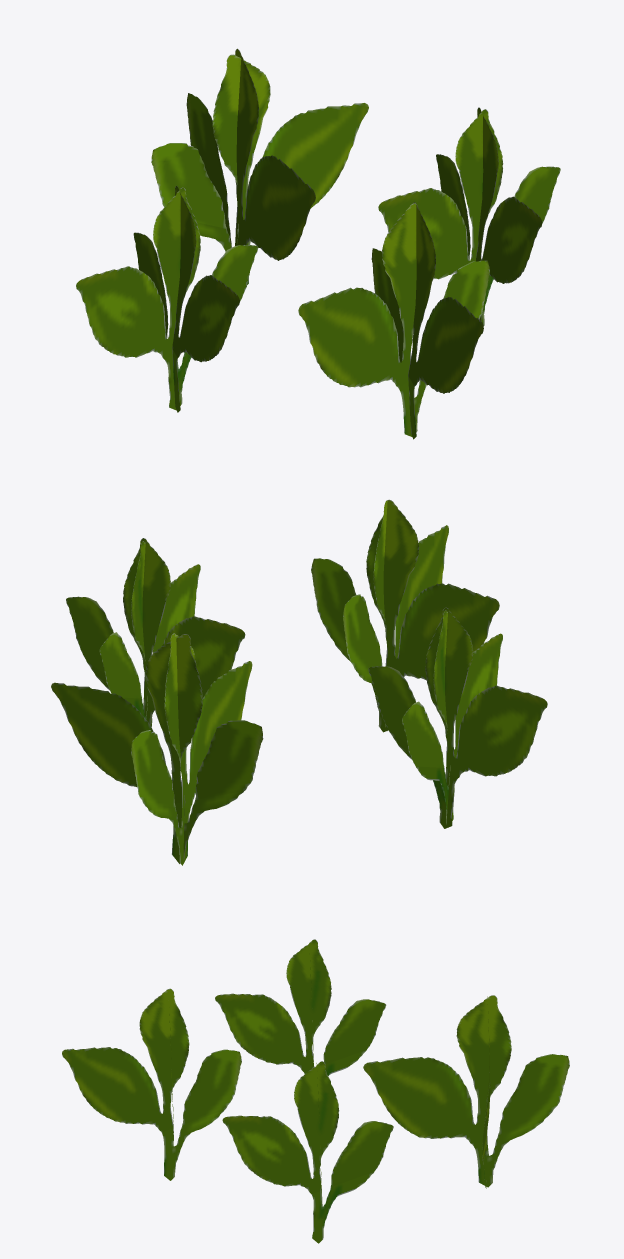
Rendered from Pepper_Step01.fbx.
3 views of the same model, one above another, from view 1: azimuth 30°, elevation 25°; view 2: azimuth 150°, elevation 25°; view 3: azimuth 270°, elevation 25° (orthographic). The views are drawn at different scales.
Visible parts, largest first — view 1: Pepper_Step01; view 2: Pepper_Step01; view 3: Pepper_Step01.
Part boxes in pixels (box(x1,y1,x2,y2)): Pepper_Step01: box(76, 48, 560, 439); Pepper_Step01: box(51, 499, 547, 865); Pepper_Step01: box(62, 939, 569, 1243).
Size of the model in its own units: 185 by 74.77 by 194.
